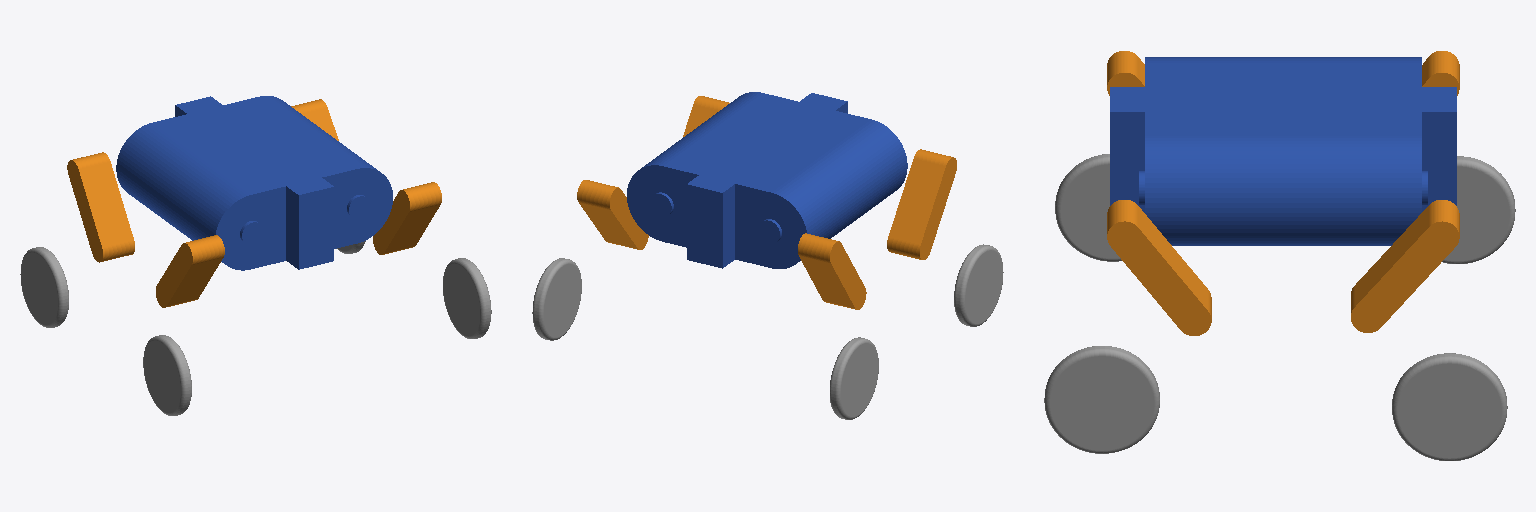
The robot description file, URDF, robot "wheely":
<?xml version="1.0" encoding="utf-8"?>
<robot name="wheely">
	<link name="base">
		<visual>
			<origin rpy="0 0 0" xyz="4.16334e-17 -2.08167e-17 -0.1"/>
			<geometry>
			<box size="0.001 0.001 0.001"/>
			</geometry>
		</visual>
  	</link>
	<joint name="floating_base" type="fixed">
		<origin rpy="0 0 0" xyz="0 0 0"/>
		<parent link="base"/>
		<child link="trunk"/>
  	</joint>
	<link name="trunk">
		<visual>
			<origin xyz="4.16334e-17 -2.08167e-17 -0.1" rpy="0 -0 0" />
			<geometry>
				<mesh filename="../meshes/V2.5/main_body_sim.stl"/>
			</geometry>
			<material name="main_body_sim_material">
				<color rgba="0.231373 0.380392 0.705882 1.0"/>
			</material>
		</visual>
		<collision>
			<origin xyz="4.16334e-17 -2.08167e-17 -0.1" rpy="0 -0 0" />
			<geometry>
				<mesh filename="../meshes/V2.5/main_body_sim.stl"/>
			</geometry>
			<material name="main_body_sim_material">
				<color rgba="0.231373 0.380392 0.705882 1.0"/>
			</material>
		</collision>
		<inertial>
			<origin xyz="-1.16129e-17 6.27325e-18 -0.05" rpy="0 0 0"/>
			<mass value="6.10065" />
			<inertia ixx="0.383547" ixy="0"  ixz="0" iyy="0.30616" iyz="0" izz="0.596523" />
		</inertial>
	</link>
	<link name="hip_joint_sim">
		<visual>
			<origin xyz="0.0322156 0.0285551 -2.77556e-17" rpy="1.5708 -4.47279e-60 0" />
			<geometry>
				<mesh filename="../meshes/V2.5/hip_joint_sim.stl"/>
			</geometry>
			<material name="hip_joint_sim_material">
				<color rgba="0.866667 0.321569 0.156863 1.0"/>
			</material>
		</visual>
		<collision>
			<origin xyz="0.0322156 0.0285551 -2.77556e-17" rpy="1.5708 -4.47279e-60 0" />
			<geometry>
				<mesh filename="../meshes/V2.5/hip_joint_sim.stl"/>
			</geometry>
			<material name="hip_joint_sim_material">
				<color rgba="0.866667 0.321569 0.156863 1.0"/>
			</material>
		</collision>
		<inertial>
			<origin xyz="0.0215256 0 -0.0125" rpy="0 0 0"/>
			<mass value="0.0526902" />
			<inertia ixx="6.52176e-05" ixy="1.30299e-64"  ixz="-3.17118e-37" iyy="2.26097e-04" iyz="0" izz="2.36429e-04" />
		</inertial>
	</link>
	<link name="leg_upper_sim">
		<visual>
			<origin xyz="-2.77556e-17 1.38778e-17 -0.045" rpy="-1.5708 -1.5708 0" />
			<geometry>
				<mesh filename="../meshes/V2.5/leg_upper_sim.stl"/>
			</geometry>
			<material name="leg_upper_sim_material">
				<color rgba="0.909804 0.572549 0.164706 1.0"/>
			</material>
		</visual>
		<collision>
			<origin xyz="-2.77556e-17 1.38778e-17 -0.045" rpy="-1.5708 -1.5708 0" />
			<geometry>
				<mesh filename="../meshes/V2.5/leg_upper_sim.stl"/>
			</geometry>
			<material name="leg_upper_sim_material">
				<color rgba="0.909804 0.572549 0.164706 1.0"/>
			</material>
		</collision>
		<inertial>
			<origin xyz="-2.50512e-17 -0.05 -0.0225" rpy="0 0 0"/>
			<mass value="0.175483" />
			<inertia ixx="4.21465e-04" ixy="-2.45739e-36"  ixz="-1.21994e-52" iyy="0.00237726" iyz="-9.48071e-22" izz="0.00254805" />
		</inertial>
	</link>
	<link name="leg_lower_sim">
		<visual>
			<origin xyz="3.46945e-17 0 -0.025" rpy="-1.5708 -1.5708 0" />
			<geometry>
				<mesh filename="../meshes/V2.5/leg_lower_sim.stl"/>
			</geometry>
			<material name="leg_lower_sim_material">
				<color rgba="1 0.756863 0.054902 1.0"/>
			</material>
		</visual>
		<collision>
			<origin xyz="3.46945e-17 0 -0.025" rpy="-1.5708 -1.5708 0" />
			<geometry>
				<mesh filename="../meshes/V2.5/leg_lower_sim.stl"/>
			</geometry>
			<material name="leg_lower_sim_material">
				<color rgba="1 0.756863 0.054902 1.0"/>
			</material>
		</collision>
		<inertial>
			<origin xyz="3.96927e-17 -0.0611369 -0.0125" rpy="0 0 0"/>
			<mass value="0.121368" />
			<inertia ixx="1.95228e-04" ixy="-5.48221e-36"  ixz="-4.35005e-36" iyy="0.00202862" iyz="-1.18643e-68" izz="0.00195982" />
		</inertial>
	</link>
	<link name="wheel_sim">
		<visual>
			<origin xyz="-0.0870872 -0.0270469 -0.015" rpy="-1.5708 -1.5708 0" />
			<geometry>
				<mesh filename="../meshes/V2.5/wheel_sim.stl"/>
			</geometry>
			<material name="wheel_sim_material">
				<color rgba="0.647059 0.647059 0.647059 1.0"/>
			</material>
		</visual>
		<collision>
			<origin xyz="-0.0870872 -0.0270469 -0.015" rpy="-1.5708 -1.5708 0" />
			<geometry>
				<mesh filename="../meshes/V2.5/wheel_sim.stl"/>
			</geometry>
			<material name="wheel_sim_material">
				<color rgba="0.647059 0.647059 0.647059 1.0"/>
			</material>
		</collision>
		<inertial>
			<origin xyz="1.38778e-17 3.1225e-17 -0.0075" rpy="0 0 0"/>
			<mass value="0.120469" />
			<inertia ixx="7.54929e-04" ixy="8.93848e-37"  ixz="0" iyy="0.00146626" iyz="0" izz="7.54929e-04" />
		</inertial>
	</link>
	<joint name="Front Right Wheel joint" type="revolute">
		<origin xyz="1.38778e-17 -0.1 -0.025" rpy="-1.12604e-16 -1.42411e-16 0.785398" />
		<parent link="leg_lower_sim" />
		<child link="wheel_sim" />
		<axis xyz="0 0 1"/>
		<limit effort="5" velocity="20" />
		<joint_properties friction="0.0"/>
	</joint>
	<joint name="Front Right Knee joint" type="revolute">
		<origin xyz="-2.77556e-17 -0.1 -0.045" rpy="8.31169e-17 1.9411e-16 -1.43715" />
		<parent link="leg_upper_sim" />
		<child link="leg_lower_sim" />
		<axis xyz="0 0 1"/>
		<limit effort="5" velocity="20" />
		<joint_properties friction="0.0"/>
	</joint>
	<joint name="Front Right Hip Lower joint" type="revolute">
		<origin xyz="0.055 0 -0.0125" rpy="-1.5708 -0.919042 1.5708" />
		<parent link="hip_joint_sim" />
		<child link="leg_upper_sim" />
		<axis xyz="0 0 1"/>
		<limit effort="5" velocity="20" />
		<joint_properties friction="0.0"/>
	</joint>
	<joint name="Front Right Hip joint" type="revolute">
		<origin xyz="-0.075 -0.125 -0.05" rpy="1.5708 1.97215e-31 3.14159" />
		<parent link="trunk" />
		<child link="hip_joint_sim" />
		<axis xyz="0 0 1"/>
		<limit effort="5" velocity="20" lower="-1.5708" upper="1.5708"/>
		<joint_properties friction="0.0"/>
	</joint>
	<link name="hip_joint_sim_2">
		<visual>
			<origin xyz="0.0322156 0.0285551 0" rpy="1.5708 -0 0" />
			<geometry>
				<mesh filename="../meshes/V2.5/hip_joint_sim.stl"/>
			</geometry>
			<material name="hip_joint_sim_material">
				<color rgba="0.866667 0.321569 0.156863 1.0"/>
			</material>
		</visual>
		<collision>
			<origin xyz="0.0322156 0.0285551 0" rpy="1.5708 -0 0" />
			<geometry>
				<mesh filename="../meshes/V2.5/hip_joint_sim.stl"/>
			</geometry>
			<material name="hip_joint_sim_material">
				<color rgba="0.866667 0.321569 0.156863 1.0"/>
			</material>
		</collision>
		<inertial>
			<origin xyz="0.0215256 0 -0.0125" rpy="0 0 0"/>
			<mass value="0.0526902" />
			<inertia ixx="6.52176e-04" ixy="1.59652e-100"  ixz="0" iyy="2.26097e-03" iyz="0" izz="2.36429e-03" />
		</inertial>
	</link>
	<link name="leg_upper_sim_2">
		<visual>
			<origin xyz="-2.77556e-17 6.93889e-18 0" rpy="1.5708 1.5708 0" />
			<geometry>
				<mesh filename="../meshes/V2.5/leg_upper_sim.stl"/>
			</geometry>
			<material name="leg_upper_sim_material">
				<color rgba="0.909804 0.572549 0.164706 1.0"/>
			</material>
		</visual>
		<collision>
			<origin xyz="-2.77556e-17 6.93889e-18 0" rpy="1.5708 1.5708 0" />
			<geometry>
				<mesh filename="../meshes/V2.5/leg_upper_sim.stl"/>
			</geometry>
			<material name="leg_upper_sim_material">
				<color rgba="0.909804 0.572549 0.164706 1.0"/>
			</material>
		</collision>
		<inertial>
			<origin xyz="-1.95e-17 0.05 -0.0225" rpy="0 0 0"/>
			<mass value="0.175483" />
			<inertia ixx="4.21465e-03" ixy="-2.59748e-37"  ixz="0" iyy="0.0237726" iyz="-1.31964e-20" izz="0.0254805" />
		</inertial>
	</link>
	<link name="leg_lower_sim_2">
		<visual>
			<origin xyz="2.08167e-17 0 0" rpy="1.5708 1.5708 0" />
			<geometry>
				<mesh filename="../meshes/V2.5/leg_lower_sim.stl"/>
			</geometry>
			<material name="leg_lower_sim_material">
				<color rgba="1 0.756863 0.054902 1.0"/>
			</material>
		</visual>
		<collision>
			<origin xyz="2.08167e-17 0 0" rpy="1.5708 1.5708 0" />
			<geometry>
				<mesh filename="../meshes/V2.5/leg_lower_sim.stl"/>
			</geometry>
			<material name="leg_lower_sim_material">
				<color rgba="1 0.756863 0.054902 1.0"/>
			</material>
		</collision>
		<inertial>
			<origin xyz="3.26025e-17 0.0611369 -0.0125" rpy="0 0 0"/>
			<mass value="0.121368" />
			<inertia ixx="1.95228e-03" ixy="0"  ixz="0" iyy="0.0202862" iyz="-3.34014e-20" izz="0.0195982" />
		</inertial>
	</link>
	<link name="wheel_sim_2">
		<visual>
			<origin xyz="-0.0870872 0.0270469 2.77556e-17" rpy="1.5708 1.5708 0" />
			<geometry>
				<mesh filename="../meshes/V2.5/wheel_sim.stl"/>
			</geometry>
			<material name="wheel_sim_material">
				<color rgba="0.647059 0.647059 0.647059 1.0"/>
			</material>
		</visual>
		<collision>
			<origin xyz="-0.0870872 0.0270469 2.77556e-17" rpy="1.5708 1.5708 0" />
			<geometry>
				<mesh filename="../meshes/V2.5/wheel_sim.stl"/>
			</geometry>
			<material name="wheel_sim_material">
				<color rgba="0.647059 0.647059 0.647059 1.0"/>
			</material>
		</collision>
		<inertial>
			<origin xyz="-4.16334e-17 -1.73472e-17 -0.0075" rpy="0 0 0"/>
			<mass value="0.120469" />
			<inertia ixx="7.54929e-04" ixy="-1.36891e-36"  ixz="-9.30522e-37" iyy="0.00146626" iyz="-2.04695e-20" izz="7.54929e-04" />
		</inertial>
	</link>
	<joint name="Front Left Wheel joint" type="revolute">
		<origin xyz="6.93889e-17 0.1 -0.025" rpy="0 -0 -1.5708" />
		<parent link="leg_lower_sim_2" />
		<child link="wheel_sim_2" />
		<axis xyz="0 0 1"/>
		<limit effort="5" velocity="20" />
		<joint_properties friction="0.0"/>
	</joint>
	<joint name="Front Left Knee joint" type="revolute">
		<origin xyz="-2.77556e-17 0.1 -0.045" rpy="-7.40642e-28 6.77878e-28 1.5708" />
		<parent link="leg_upper_sim_2" />
		<child link="leg_lower_sim_2" />
		<axis xyz="0 0 1"/>
		<limit effort="5" velocity="20" />
		<joint_properties friction="0.0"/>
	</joint>
	<joint name="Front Left Hip Lower joint" type="revolute">
		<origin xyz="0.055 0 -0.0125" rpy="1.5708 -0.922419 -1.5708" />
		<parent link="hip_joint_sim_2" />
		<child link="leg_upper_sim_2" />
		<axis xyz="0 0 1"/>
		<limit effort="5" velocity="20" />
		<joint_properties friction="0.0"/>
	</joint>
	<joint name="Front Left Hip joint" type="revolute">
		<origin xyz="0.075 -0.125 -0.05" rpy="-1.5708 -0 3.69779e-32" />
		<parent link="trunk" />
		<child link="hip_joint_sim_2" />
		<axis xyz="0 0 1"/>
		<limit effort="5" velocity="20" lower="-1.5708" upper="1.5708"/>
		<joint_properties friction="0.0"/>
	</joint>
	<link name="hip_joint_sim_3">
		<visual>
			<origin xyz="0.0322156 -0.0285551 -0.025" rpy="-1.5708 -0 0" />
			<geometry>
				<mesh filename="../meshes/V2.5/hip_joint_sim.stl"/>
			</geometry>
			<material name="hip_joint_sim_material">
				<color rgba="0.866667 0.321569 0.156863 1.0"/>
			</material>
		</visual>
		<collision>
			<origin xyz="0.0322156 -0.0285551 -0.025" rpy="-1.5708 -0 0" />
			<geometry>
				<mesh filename="../meshes/V2.5/hip_joint_sim.stl"/>
			</geometry>
			<material name="hip_joint_sim_material">
				<color rgba="0.866667 0.321569 0.156863 1.0"/>
			</material>
		</collision>
		<inertial>
			<origin xyz="0.0215256 6.93889e-18 -0.0125" rpy="0 0 0"/>
			<mass value="0.0526902" />
			<inertia ixx="6.52176e-04" ixy="2.23118e-53"  ixz="0" iyy="2.26097e-03" iyz="0" izz="2.36429e-03" />
		</inertial>
	</link>
	<link name="leg_upper_sim_3">
		<visual>
			<origin xyz="0 6.93889e-18 0" rpy="1.5708 1.5708 0" />
			<geometry>
				<mesh filename="../meshes/V2.5/leg_upper_sim.stl"/>
			</geometry>
			<material name="leg_upper_sim_material">
				<color rgba="0.909804 0.572549 0.164706 1.0"/>
			</material>
		</visual>
		<collision>
			<origin xyz="0 6.93889e-18 0" rpy="1.5708 1.5708 0" />
			<geometry>
				<mesh filename="../meshes/V2.5/leg_upper_sim.stl"/>
			</geometry>
			<material name="leg_upper_sim_material">
				<color rgba="0.909804 0.572549 0.164706 1.0"/>
			</material>
		</collision>
		<inertial>
			<origin xyz="8.25554e-18 0.05 -0.0225" rpy="0 0 0"/>
			<mass value="0.175483" />
			<inertia ixx="4.21465e-04" ixy="-3.48689e-52"  ixz="-5.24243e-36" iyy="0.00237726" iyz="9.48071e-22" izz="0.00254805" />
		</inertial>
	</link>
	<link name="leg_lower_sim_3">
		<visual>
			<origin xyz="-2.08167e-17 2.77556e-17 -2.77556e-17" rpy="1.5708 1.5708 0" />
			<geometry>
				<mesh filename="../meshes/V2.5/leg_lower_sim.stl"/>
			</geometry>
			<material name="leg_lower_sim_material">
				<color rgba="1 0.756863 0.054902 1.0"/>
			</material>
		</visual>
		<collision>
			<origin xyz="-2.08167e-17 2.77556e-17 -2.77556e-17" rpy="1.5708 1.5708 0" />
			<geometry>
				<mesh filename="../meshes/V2.5/leg_lower_sim.stl"/>
			</geometry>
			<material name="leg_lower_sim_material">
				<color rgba="1 0.756863 0.054902 1.0"/>
			</material>
		</collision>
		<inertial>
			<origin xyz="-1.58184e-17 0.0611369 -0.0125" rpy="0 0 0"/>
			<mass value="0.121368" />
			<inertia ixx="1.95228e-04" ixy="-2.40637e-37"  ixz="9.66265e-36" iyy="0.00202862" iyz="0" izz="0.00195982" />
		</inertial>
	</link>
	<link name="wheel_sim_3">
		<visual>
			<origin xyz="-0.0870872 0.0270469 -2.77556e-17" rpy="1.5708 1.5708 0" />
			<geometry>
				<mesh filename="../meshes/V2.5/wheel_sim.stl"/>
			</geometry>
			<material name="wheel_sim_material">
				<color rgba="0.647059 0.647059 0.647059 1.0"/>
			</material>
		</visual>
		<collision>
			<origin xyz="-0.0870872 0.0270469 -2.77556e-17" rpy="1.5708 1.5708 0" />
			<geometry>
				<mesh filename="../meshes/V2.5/wheel_sim.stl"/>
			</geometry>
			<material name="wheel_sim_material">
				<color rgba="0.647059 0.647059 0.647059 1.0"/>
			</material>
		</collision>
		<inertial>
			<origin xyz="1.38778e-17 -3.46945e-18 -0.0075" rpy="0 0 0"/>
			<mass value="0.120469" />
			<inertia ixx="7.54929e-04" ixy="-1.86228e-37"  ixz="0" iyy="0.00146626" iyz="0" izz="7.54929e-04" />
		</inertial>
	</link>
	<joint name="Back Left Wheel joint" type="revolute">
		<origin xyz="-1.38778e-17 0.1 -0.025" rpy="-3.55155e-16 3.18225e-16 0.785398" />
		<parent link="leg_lower_sim_3" />
		<child link="wheel_sim_3" />
		<axis xyz="0 0 1"/>
		<limit effort="5" velocity="20" />
		<joint_properties friction="0.0"/>
	</joint>
	<joint name="Back Left Knee joint" type="revolute">
		<origin xyz="0 0.1 -0.045" rpy="2.35496e-16 9.6102e-17 -1.48353" />
		<parent link="leg_upper_sim_3" />
		<child link="leg_lower_sim_3" />
		<axis xyz="0 0 1"/>
		<limit effort="5" velocity="20" />
		<joint_properties friction="0.0"/>
	</joint>
	<joint name="Back Left Hip Lower joint" type="revolute">
		<origin xyz="0.055 6.93889e-18 -0.0125" rpy="1.5708 0.872665 -1.5708" />
		<parent link="hip_joint_sim_3" />
		<child link="leg_upper_sim_3" />
		<axis xyz="0 0 1"/>
		<limit effort="5" velocity="20" />
		<joint_properties friction="0.0"/>
	</joint>
	<joint name="Back Left Hip joint" type="revolute">
		<origin xyz="0.075 0.125 -0.05" rpy="1.5708 -0 -2.77556e-16" />
		<parent link="trunk" />
		<child link="hip_joint_sim_3" />
		<axis xyz="0 0 1"/>
		<limit effort="5" velocity="20" lower="-1.5708" upper="1.5708"/>
		<joint_properties friction="0.0"/>
	</joint>
	<link name="hip_joint_sim_4">
		<visual>
			<origin xyz="0.0322156 -0.0285551 -0.025" rpy="-1.5708 -0 0" />
			<geometry>
				<mesh filename="../meshes/V2.5/hip_joint_sim.stl"/>
			</geometry>
			<material name="hip_joint_sim_material">
				<color rgba="0.866667 0.321569 0.156863 1.0"/>
			</material>
		</visual>
		<collision>
			<origin xyz="0.0322156 -0.0285551 -0.025" rpy="-1.5708 -0 0" />
			<geometry>
				<mesh filename="../meshes/V2.5/hip_joint_sim.stl"/>
			</geometry>
			<material name="hip_joint_sim_material">
				<color rgba="0.866667 0.321569 0.156863 1.0"/>
			</material>
		</collision>
		<inertial>
			<origin xyz="0.0215256 0 -0.0125" rpy="0 0 0"/>
			<mass value="0.0526902" />
			<inertia ixx="6.52176e-05" ixy="0"  ixz="-3.17118e-37" iyy="2.26097e-04" iyz="0" izz="2.36429e-04" />
		</inertial>
	</link>
	<link name="leg_upper_sim_4">
		<visual>
			<origin xyz="0 0 -0.045" rpy="-1.5708 -1.5708 0" />
			<geometry>
				<mesh filename="../meshes/V2.5/leg_upper_sim.stl"/>
			</geometry>
			<material name="leg_upper_sim_material">
				<color rgba="0.909804 0.572549 0.164706 1.0"/>
			</material>
		</visual>
		<collision>
			<origin xyz="0 0 -0.045" rpy="-1.5708 -1.5708 0" />
			<geometry>
				<mesh filename="../meshes/V2.5/leg_upper_sim.stl"/>
			</geometry>
			<material name="leg_upper_sim_material">
				<color rgba="0.909804 0.572549 0.164706 1.0"/>
			</material>
		</collision>
		<inertial>
			<origin xyz="2.70442e-18 -0.05 -0.0225" rpy="0 0 0"/>
			<mass value="0.175483" />
			<inertia ixx="4.21465e-04" ixy="7.10223e-36"  ixz="-4.19157e-36" iyy="0.00237726" iyz="2.73409e-20" izz="0.00254805" />
		</inertial>
	</link>
	<link name="leg_lower_sim_4">
		<visual>
			<origin xyz="-1.38778e-17 0 -0.025" rpy="-1.5708 -1.5708 0" />
			<geometry>
				<mesh filename="../meshes/V2.5/leg_lower_sim.stl"/>
			</geometry>
			<material name="leg_lower_sim_material">
				<color rgba="1 0.756863 0.054902 1.0"/>
			</material>
		</visual>
		<collision>
			<origin xyz="-1.38778e-17 0 -0.025" rpy="-1.5708 -1.5708 0" />
			<geometry>
				<mesh filename="../meshes/V2.5/leg_lower_sim.stl"/>
			</geometry>
			<material name="leg_lower_sim_material">
				<color rgba="1 0.756863 0.054902 1.0"/>
			</material>
		</collision>
		<inertial>
			<origin xyz="-2.09197e-18 -0.0611369 -0.0125" rpy="0 0 0"/>
			<mass value="0.121368" />
			<inertia ixx="1.95228e-04" ixy="-4.63998e-36"  ixz="-2.41566e-36" iyy="0.00202862" iyz="-2.25222e-20" izz="0.00195982" />
		</inertial>
	</link>
	<link name="wheel_sim_4">
		<visual>
			<origin xyz="-0.0870872 -0.0270469 -0.015" rpy="-1.5708 -1.5708 0" />
			<geometry>
				<mesh filename="../meshes/V2.5/wheel_sim.stl"/>
			</geometry>
			<material name="wheel_sim_material">
				<color rgba="0.647059 0.647059 0.647059 1.0"/>
			</material>
		</visual>
		<collision>
			<origin xyz="-0.0870872 -0.0270469 -0.015" rpy="-1.5708 -1.5708 0" />
			<geometry>
				<mesh filename="../meshes/V2.5/wheel_sim.stl"/>
			</geometry>
			<material name="wheel_sim_material">
				<color rgba="0.647059 0.647059 0.647059 1.0"/>
			</material>
		</collision>
		<inertial>
			<origin xyz="-2.77556e-17 3.46945e-18 -0.0075" rpy="0 0 0"/>
			<mass value="0.120469" />
			<inertia ixx="7.54929e-04" ixy="-9.81396e-53"  ixz="0" iyy="0.00146626" iyz="0" izz="7.54929e-04" />
		</inertial>
	</link>
	<joint name="Back Right Wheel joint" type="revolute">
		<origin xyz="-2.77556e-17 -0.1 -0.025" rpy="-6.58326e-17 6.82995e-17 -0.785398" />
		<parent link="leg_lower_sim_4" />
		<child link="wheel_sim_4" />
		<axis xyz="0 0 1"/>
		<limit effort="5" velocity="20" />
		<joint_properties friction="0.0"/>
	</joint>
	<joint name="Back Right Knee joint" type="revolute">
		<origin xyz="0 -0.1 -0.045" rpy="4.8688e-17 1.29052e-17 1.39626" />
		<parent link="leg_upper_sim_4" />
		<child link="leg_lower_sim_4" />
		<axis xyz="0 0 1"/>
		<limit effort="5" velocity="20" />
		<joint_properties friction="0.0"/>
	</joint>
	<joint name="Back Right Hip Lower joint" type="revolute">
		<origin xyz="0.055 2.08167e-17 -0.0125" rpy="-1.5708 0.959931 1.5708" />
		<parent link="hip_joint_sim_4" />
		<child link="leg_upper_sim_4" />
		<axis xyz="0 0 1"/>
		<limit effort="5" velocity="20" />
		<joint_properties friction="0.0"/>
	</joint>
	<joint name="Back Right Hip joint" type="revolute">
		<origin xyz="-0.075 0.125 -0.05" rpy="-1.5708 -0 3.14159" />
		<parent link="trunk" />
		<child link="hip_joint_sim_4" />
		<axis xyz="0 0 1"/>
		<limit effort="5" velocity="20" />
		<joint_properties friction="0.0"/>
	</joint>
</robot>

--- Facts derived from the render (not from the file) ---
Views: 3 orthographic renders of the robot side by side, from view 1: azimuth 30°, elevation 25°; view 2: azimuth 150°, elevation 25°; view 3: azimuth 270°, elevation 25°.
Robot: wheely — 18 links, 17 joints (16 revolute, 1 fixed); root link base; default pose: every joint at zero.
Visible links, largest first — view 1: trunk, leg_upper_sim_4, leg_upper_sim, wheel_sim, wheel_sim_2, wheel_sim_4, leg_upper_sim_2, leg_upper_sim_3; view 2: trunk, leg_upper_sim, leg_upper_sim_4, wheel_sim_3, wheel_sim_4, wheel_sim, leg_upper_sim_3, leg_upper_sim_2; view 3: trunk, wheel_sim_2, wheel_sim_3, leg_upper_sim_3, leg_upper_sim_2, wheel_sim_4, wheel_sim, leg_upper_sim, leg_upper_sim_4.
Boxes of the visible links, x1=… form: trunk: x1=116, y1=96, x2=392, y2=270; leg_upper_sim_4: x1=67, y1=152, x2=134, y2=262; leg_upper_sim: x1=156, y1=235, x2=224, y2=307; wheel_sim: x1=143, y1=335, x2=191, y2=415; wheel_sim_2: x1=443, y1=258, x2=491, y2=338; wheel_sim_4: x1=20, y1=247, x2=68, y2=327; leg_upper_sim_2: x1=373, y1=182, x2=441, y2=254; leg_upper_sim_3: x1=291, y1=99, x2=338, y2=140; trunk: x1=627, y1=92, x2=907, y2=268; leg_upper_sim: x1=887, y1=149, x2=956, y2=259; leg_upper_sim_4: x1=798, y1=233, x2=866, y2=309; wheel_sim_3: x1=532, y1=258, x2=581, y2=340; wheel_sim_4: x1=830, y1=337, x2=878, y2=419; wheel_sim: x1=954, y1=244, x2=1003, y2=326; leg_upper_sim_3: x1=577, y1=180, x2=648, y2=249; leg_upper_sim_2: x1=683, y1=96, x2=729, y2=136; trunk: x1=1110, y1=57, x2=1456, y2=245; wheel_sim_2: x1=1044, y1=346, x2=1159, y2=453; wheel_sim_3: x1=1392, y1=353, x2=1507, y2=460; leg_upper_sim_3: x1=1351, y1=200, x2=1459, y2=332; leg_upper_sim_2: x1=1107, y1=200, x2=1211, y2=335; wheel_sim_4: x1=1442, y1=156, x2=1515, y2=263; wheel_sim: x1=1055, y1=154, x2=1121, y2=261; leg_upper_sim: x1=1107, y1=51, x2=1144, y2=95; leg_upper_sim_4: x1=1422, y1=51, x2=1459, y2=95.
Bounding box of the posed robot: 0.43 × 0.4076 × 0.2526 m (x, y, z).
Meshes: 5 distinct files referenced, 9 mesh visuals loaded (3 binary STL); not drawn: 8 (reference not matched to a file when rendering).